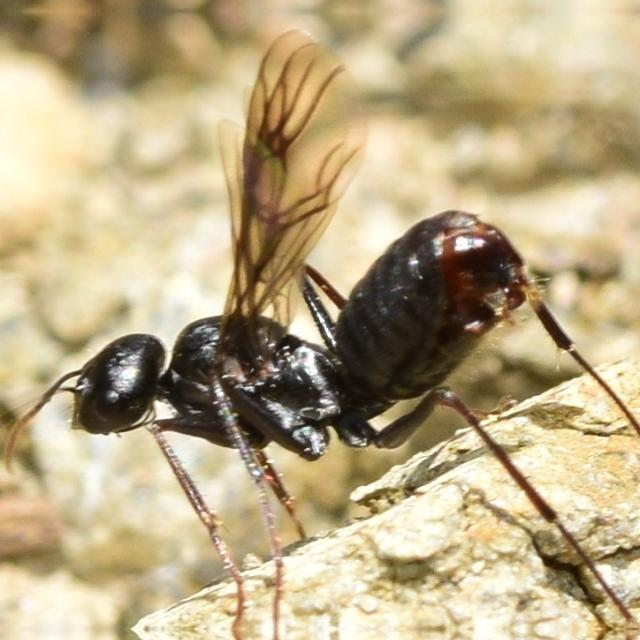Cataglyphis: (7, 162, 589, 568)
